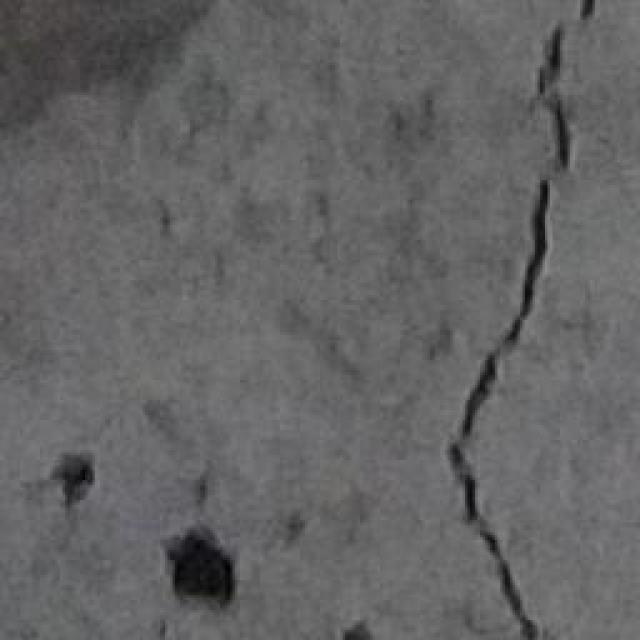Annular: (40, 438, 266, 612)
Longitudinal: (421, 0, 605, 639)
